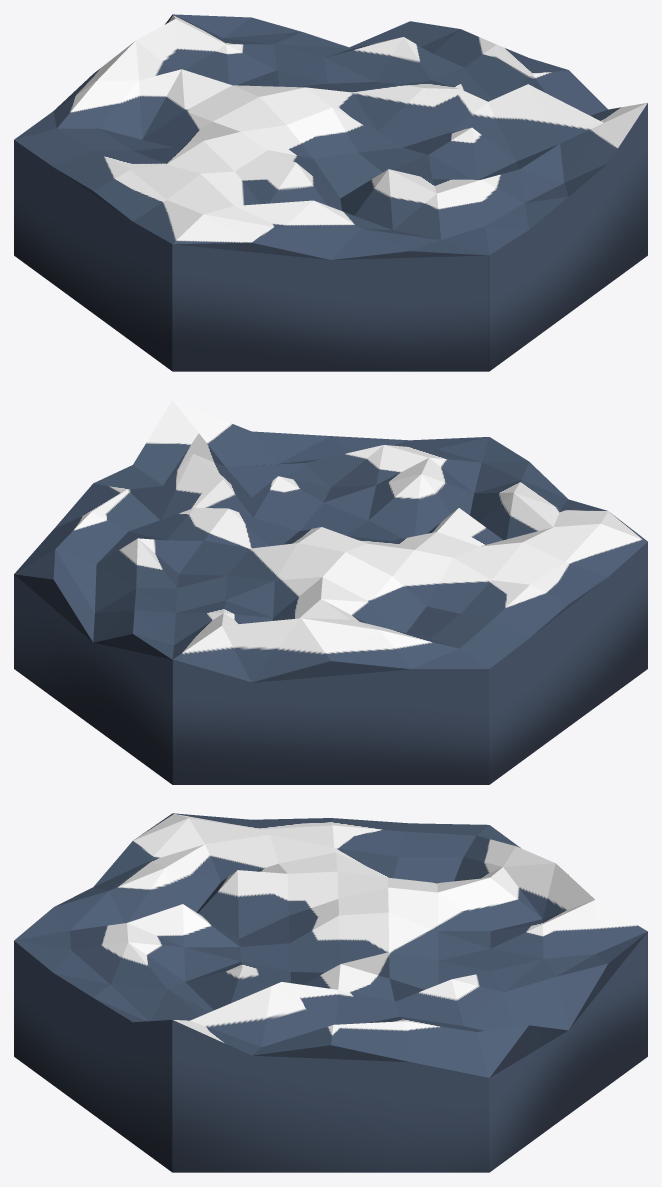
File: water.glb
The picture shows the model from 3 angles, top to bottom: view 1: azimuth 30°, elevation 25°; view 2: azimuth 150°, elevation 25°; view 3: azimuth 270°, elevation 25°; orthographic projection.
Parts seen in each view (by area): view 1: Cylinder; view 2: Cylinder; view 3: Cylinder.
Part boxes in pixels (<box>): Cylinder: <box>14,14,647,371</box>; Cylinder: <box>14,400,647,784</box>; Cylinder: <box>14,813,647,1172</box>.
Bounding box in the file's own units: 1.73 × 0.5329 × 2.
2 materials, 2 textured.
